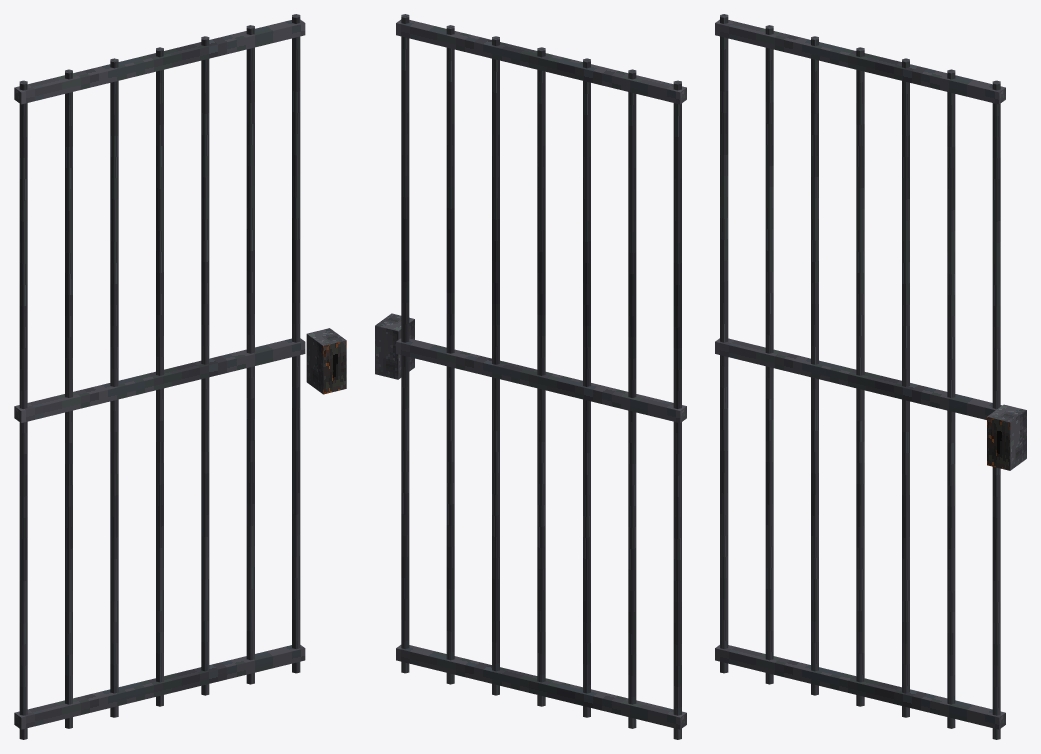
The model's file is door_cell.glb.
The picture shows the model from 3 angles, left to right: view 1: azimuth 30°, elevation 25°; view 2: azimuth 150°, elevation 25°; view 3: azimuth 330°, elevation 25°; orthographic projection.
Parts seen in each view (by area): view 1: door_cell_leaf, door_cell; view 2: door_cell_leaf, door_cell; view 3: door_cell_leaf, door_cell.
Boxes of the visible parts, x1,y1,x2,y2 form: door_cell_leaf: [14, 14, 305, 739]; door_cell: [306, 328, 346, 394]; door_cell_leaf: [396, 14, 686, 739]; door_cell: [375, 313, 414, 379]; door_cell_leaf: [715, 14, 1005, 739]; door_cell: [987, 404, 1026, 470].
Size of the model in its own units: 1.07 by 2.16 by 0.13.
1 material, 1 textured.
